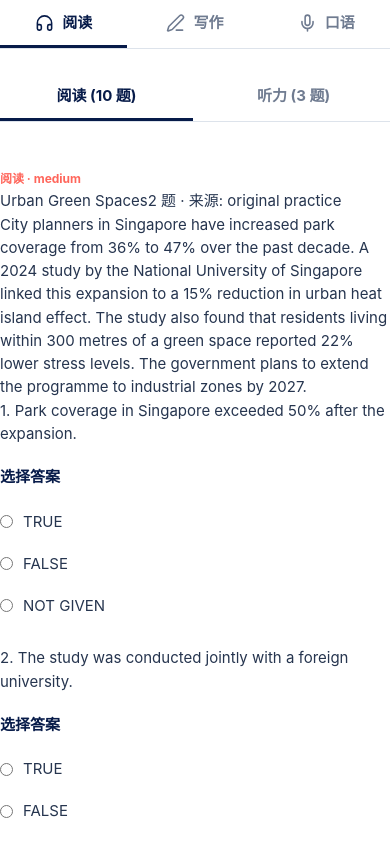
Test: PracticeHub › submits a writing paragraph and shows saved Chinese feedback
Click the tab "写作": click(195, 24) [131, 0, 259, 48]
(page scrolled)
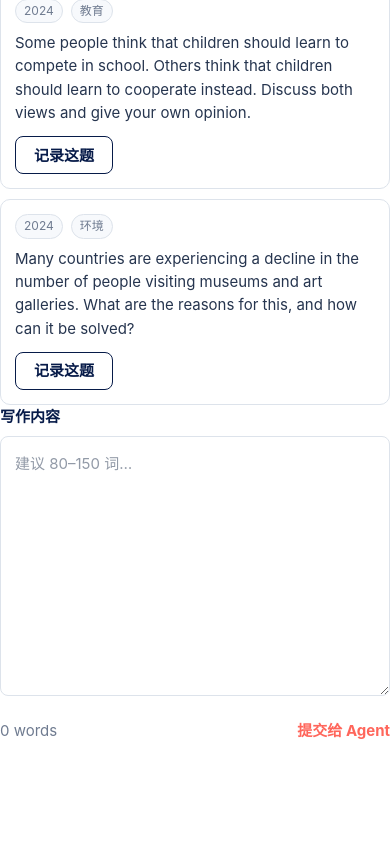
In the text box labelled "写作内容": (195, 566) [0, 436, 389, 696], type "I am writing to raise a concern about the timetable."
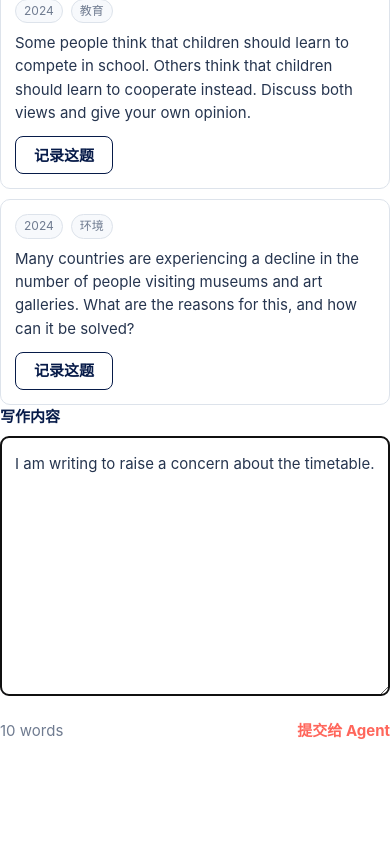
Click the button "提交给 Agent": click(344, 731) [297, 708, 389, 754]
(page scrolled)
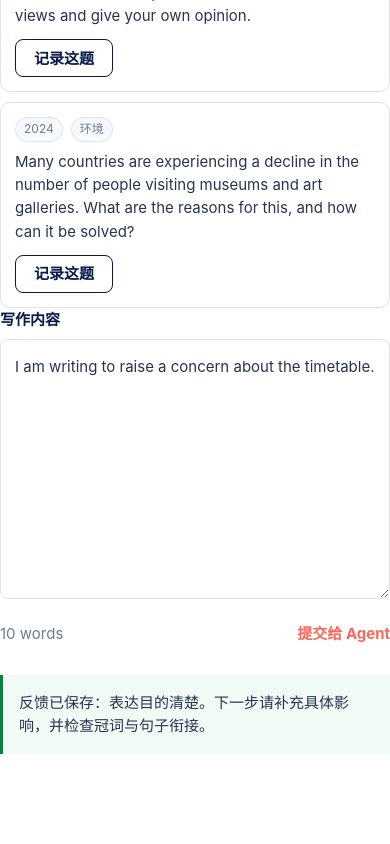
Result: the text "反馈已保存：表达目的清楚。下一步请补充具体影响，并检查冠词与句子衔接。" is shown at [0, 675, 389, 754]
